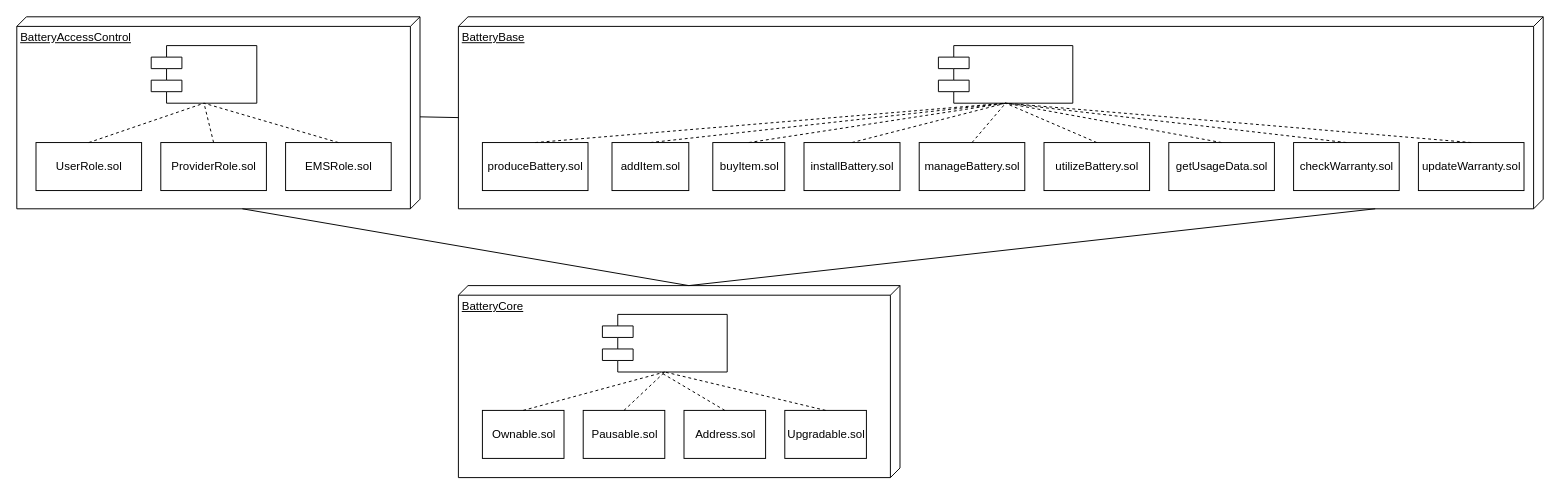
The diagram is 1560 pixels wide and 494 high, and some of its shapes have lost their labels. Here are the shapes that lost their labels. From the top down, the centre of each, then its label:
At (x=203, y=74): "Roles.sol".
At (x=1005, y=74): "SupplyChain.sol".
At (x=664, y=342): "ValueChain.sol".
